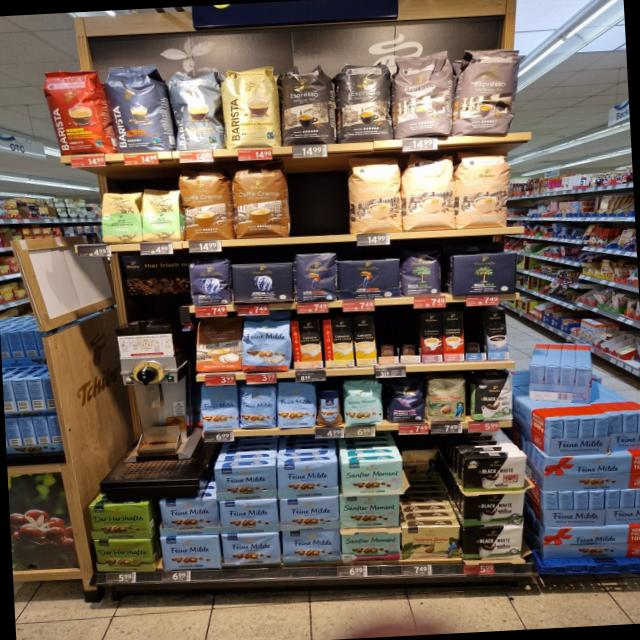AB Bohne: (186, 258, 233, 306)
AB Gemahlen: (229, 261, 296, 306)
Athiopien Gemahlen: (99, 190, 144, 247), (142, 185, 184, 242)
BM Bohne: (398, 250, 443, 298)
BM Gemahlen: (450, 252, 518, 297)
BW Bohne: (465, 368, 515, 424)
BW Gemahlen: (459, 523, 524, 563), (462, 455, 530, 492), (461, 493, 528, 526)
Barista CB: (226, 61, 283, 151)
Barista CC: (166, 68, 226, 154)
Barista Espresso: (102, 62, 180, 156)
Barista Kolumbien: (39, 68, 120, 158)
C Fino Bohne: (382, 376, 429, 425)
CC Mild: (452, 149, 508, 231), (398, 153, 456, 232), (346, 156, 403, 236)
CC Vollmundig: (194, 318, 242, 373)
CC Vollmundig 36 Pads: (231, 166, 293, 241), (178, 168, 236, 243)
Colombia BB Bohne: (426, 374, 470, 424)
Colombia BB Gemahlen: (402, 525, 462, 562)
Empty Shelf: (374, 314, 421, 366)
Espresso Aromatisch: (388, 52, 454, 139)
Espresso M Art: (453, 45, 524, 139)
Espresso S Art: (274, 62, 340, 150), (332, 61, 395, 145)
FM 36 Pads: (240, 318, 294, 375)
FM Bohne: (276, 380, 318, 430), (200, 384, 240, 432), (238, 383, 278, 431)
FM Gemahlen: (276, 462, 342, 501), (220, 530, 283, 570), (160, 498, 222, 538), (214, 465, 278, 503), (218, 498, 282, 536), (160, 534, 223, 572), (280, 528, 342, 566), (276, 496, 341, 530)
FM Instant: (316, 388, 345, 428)
Herzhatfe Mundig: (88, 502, 153, 541), (93, 536, 156, 574)
LG Bohne: (294, 251, 339, 304)
LG Gemahlen: (335, 256, 401, 301)
SM Bohne: (341, 378, 386, 428)
SM Gemahlen: (338, 459, 406, 498), (338, 493, 400, 531), (340, 527, 401, 564)
Simo CCMild: (321, 317, 355, 368)
Simo CCMild bigpack: (350, 314, 378, 368)
Simo CCVollmundig: (288, 318, 326, 371)
Simo Es Elegant: (441, 310, 466, 363)
Simo Es Kraft: (419, 312, 444, 366)
Simo Kaffee Mild: (484, 309, 511, 362)
